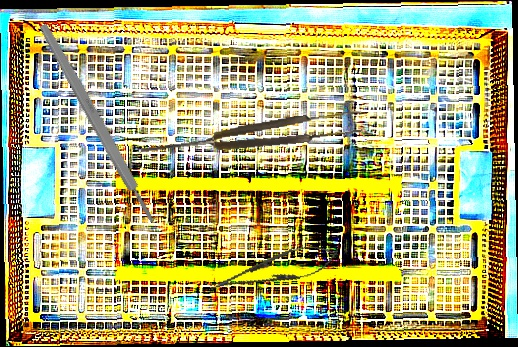Needle Holder: (206, 237, 342, 302)
Scalpel Handle: (37, 21, 158, 226)
Tissue Forceps: (136, 108, 365, 163)
